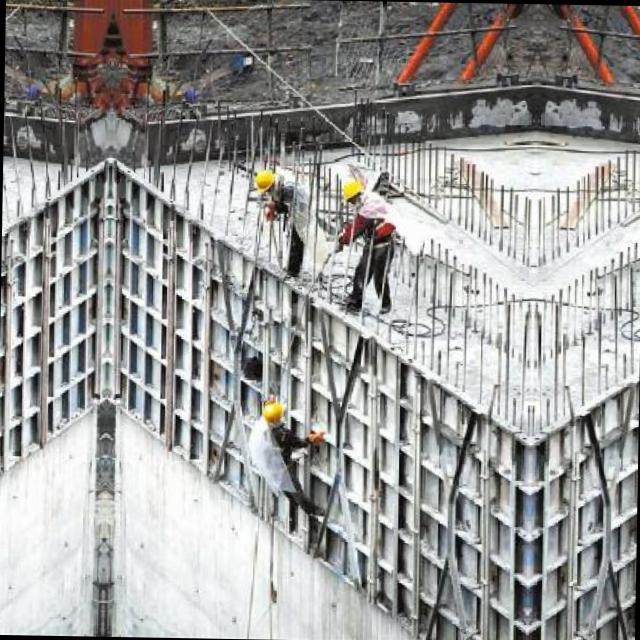helmet: (256, 400, 288, 432), (246, 166, 276, 198), (336, 176, 364, 207)
